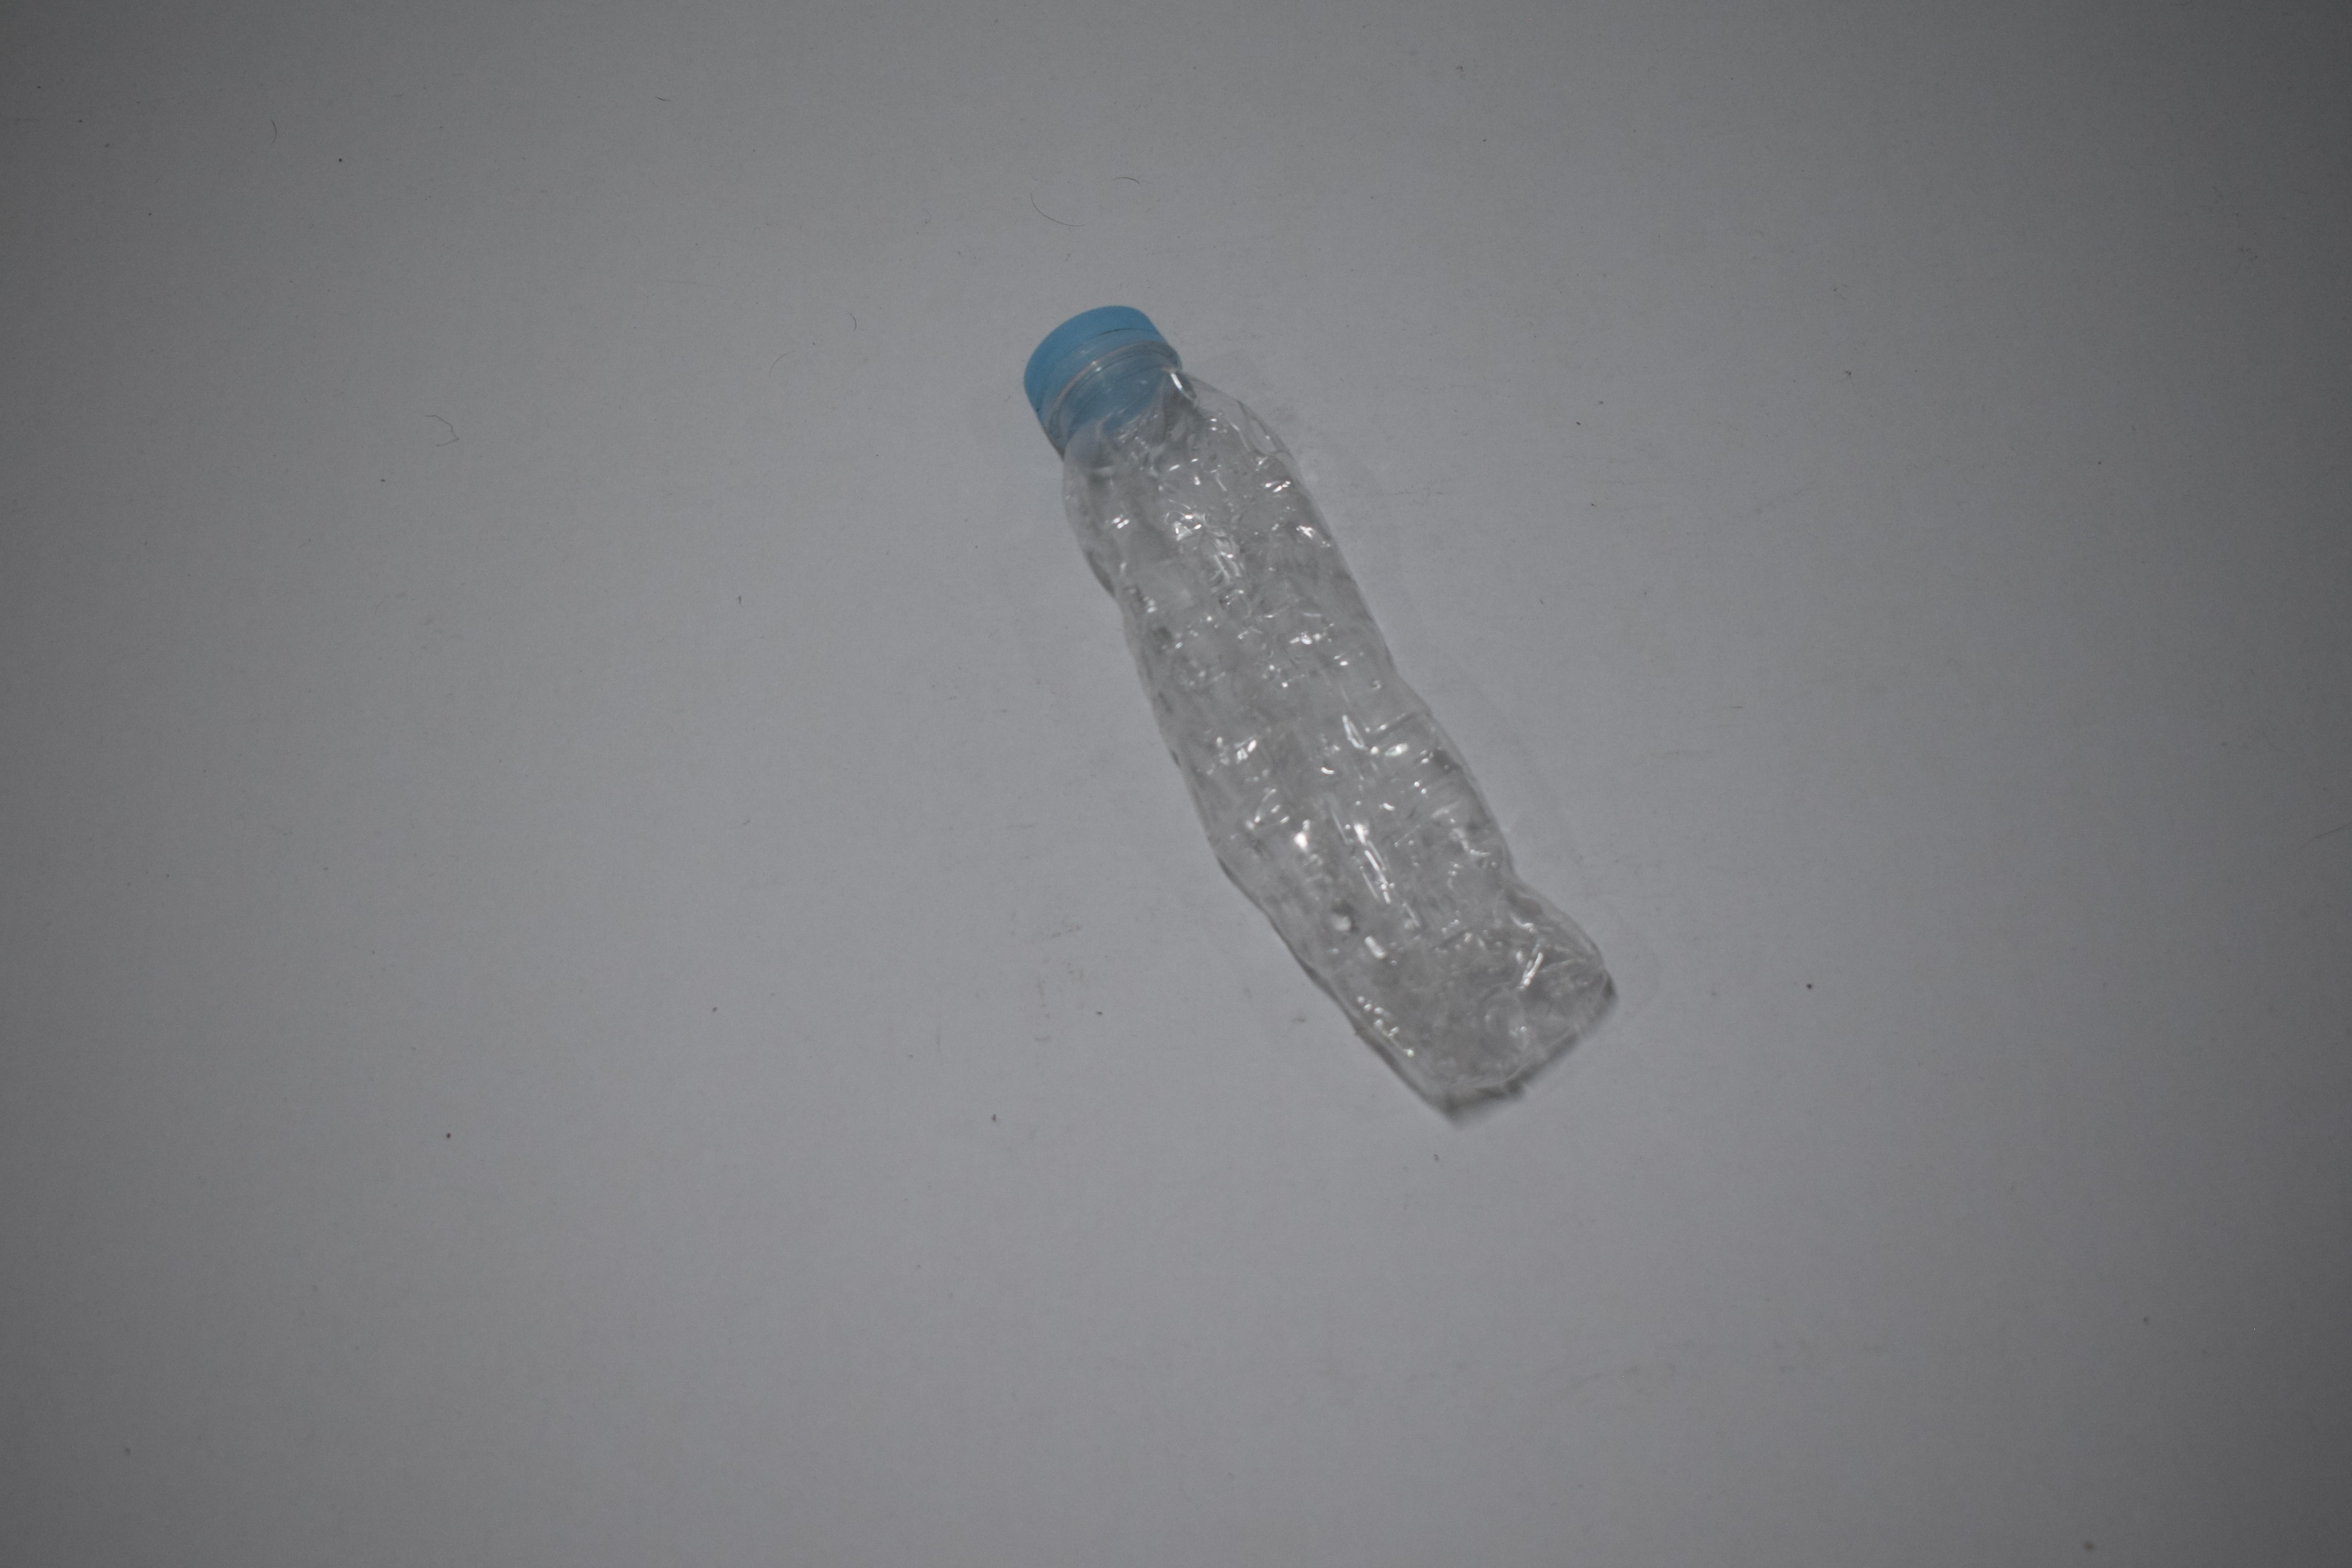bottle: (0, 607, 388, 658)
